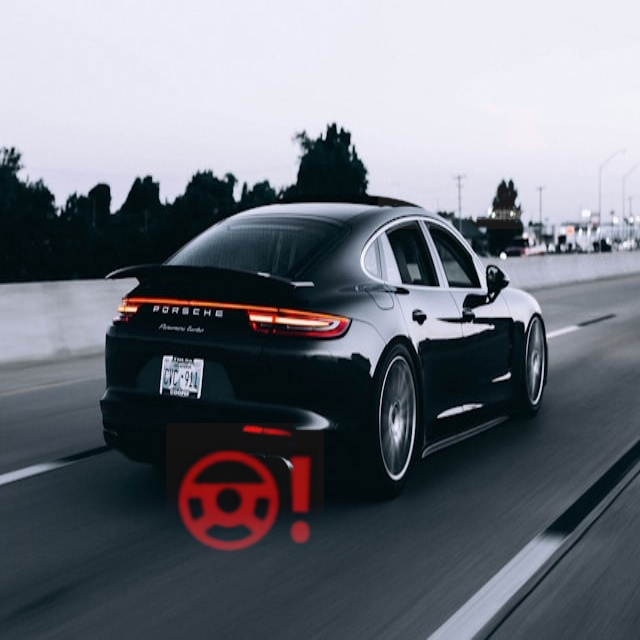symbol: (378, 39, 568, 229), (454, 25, 626, 197), (166, 423, 324, 581)
